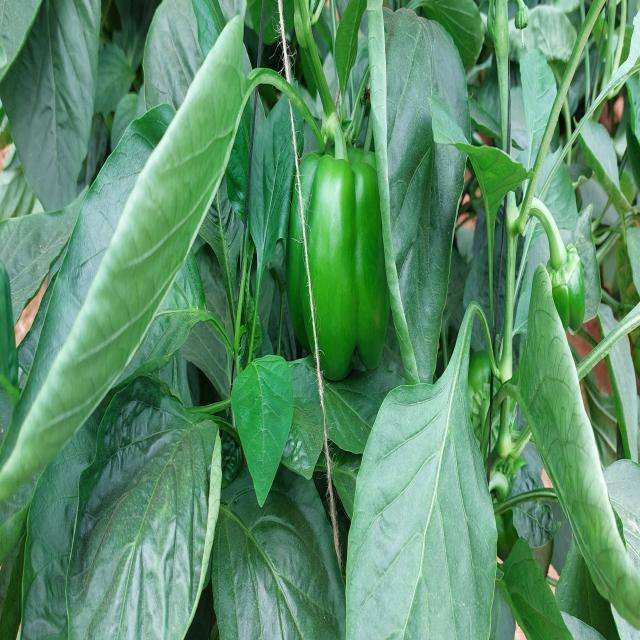Green--Not-ready-to-harvest: (283, 135, 396, 379)
